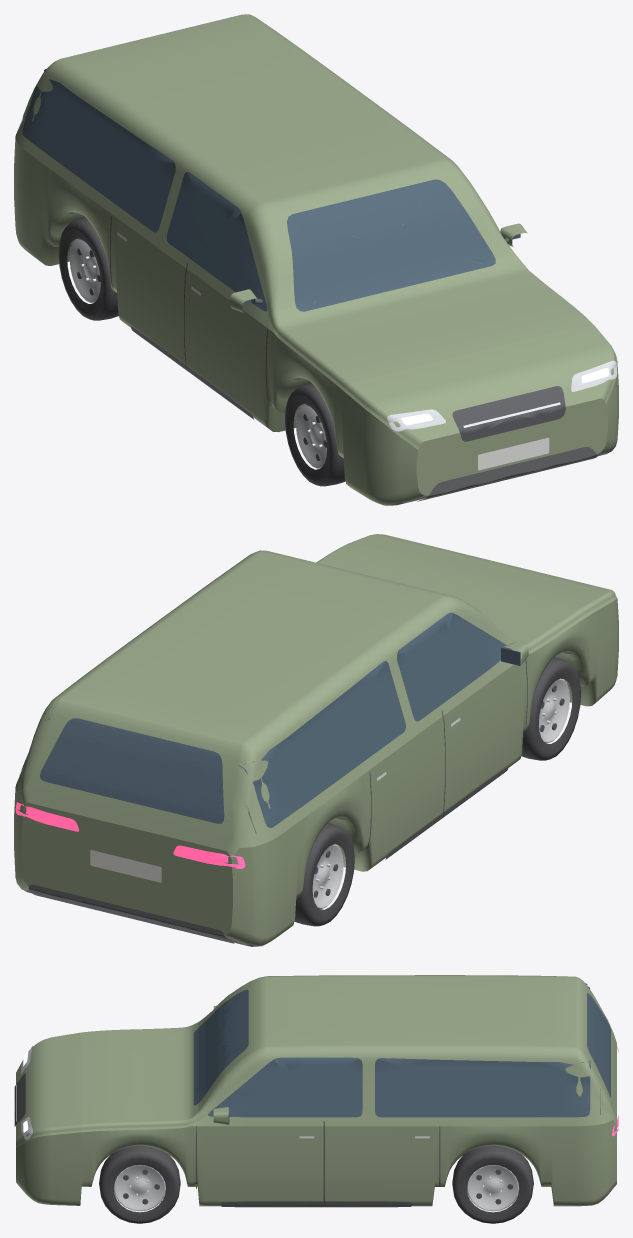
File: car-wagon.glb
3 views of the same model, one above another, from view 1: azimuth 30°, elevation 25°; view 2: azimuth 150°, elevation 25°; view 3: azimuth 270°, elevation 25° (orthographic). The views are drawn at different scales.
Parts seen in each view (by area): view 1: car-wagon; view 2: car-wagon; view 3: car-wagon.
Boxes of the visible parts, x1=… form: car-wagon: x1=14, y1=14, x2=618, y2=505; car-wagon: x1=14, y1=534, x2=618, y2=946; car-wagon: x1=14, y1=975, x2=618, y2=1223.
Size of the model in its own units: 2.12 by 1.5 by 4.88.
